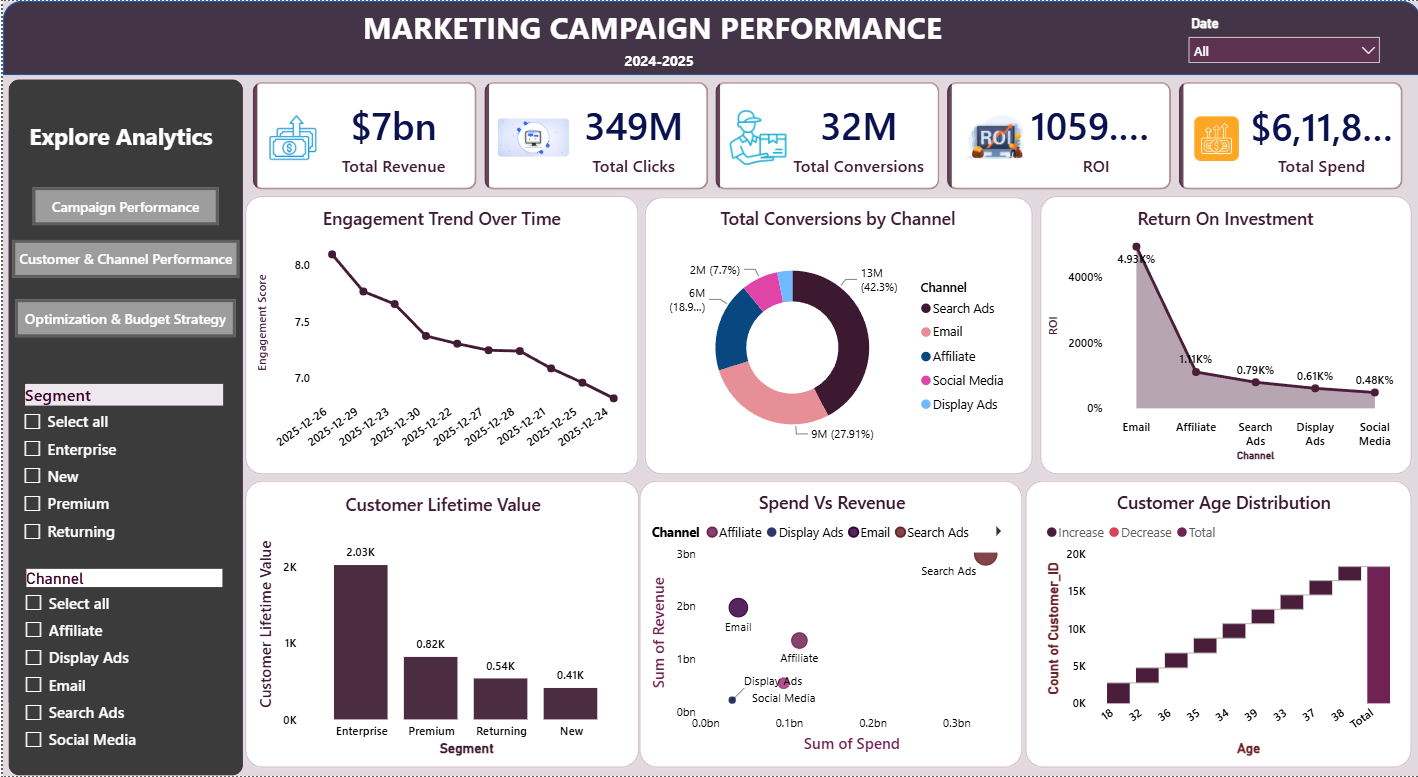

What the dashboard file says about the page in this screenshot:
{"tool":"powerbi","page":{"name":"Campaign Performance","canvas":[1500,820],"ordinal":0},"visuals":[{"type":"shape","box":[5,83.3,248.3,736.7],"z":0},{"type":"shape","box":[665,498.3,423.3,321.7],"z":1000},{"type":"cardVisual","fields":{"Data":["marketing_analytics campaign_performance.Total Revenue","marketing_analytics campaign_performance.Total Clicks","marketing_analytics campaign_performance.Total Conversions","marketing_analytics campaign_performance.ROI","marketing_analytics campaign_performance.Total Spend"]},"box":[247.1,68.6,1252.9,148.6],"z":2000},{"type":"shape","box":[0,0,1500,78.6],"z":3000},{"type":"textbox","box":[320,0,734.3,62.9],"z":4000},{"type":"textbox","box":[624,48,140,35.7],"z":5000},{"type":"shape","box":[247.1,197.1,434.3,312.9],"z":6000},{"type":"shape","box":[670,198.6,428.6,311.4],"z":7000},{"type":"donutChart","title":"Total Conversions by Channel","fields":{"Category":["marketing_analytics campaigns.Channel"],"Y":["marketing_analytics campaign_performance.Total Conversions"]},"box":[694.3,217.1,378.6,274.3],"z":8000},{"type":"shape","box":[1088.6,197.1,411.4,312.9],"z":9000},{"type":"shape","box":[1073.3,498.3,426.7,321.7],"z":10000},{"type":"shape","box":[246.7,498.3,435,321.7],"z":11000},{"type":"slicer","fields":{"Values":["marketing_analytics campaign_performance.Date"]},"box":[1244.3,10,222.9,58.6],"z":12000},{"type":"slicer","fields":{"Values":["marketing_analytics customers.Segment"]},"box":[10,400,235.7,183],"z":13000},{"type":"slicer","fields":{"Values":["marketing_analytics campaigns.Channel"]},"box":[11.7,595,234,208],"z":14000},{"type":"scatterChart","title":"Spend Vs Revenue","fields":{"X":["Sum(marketing_analytics campaign_performance.Spend)"],"Y":["Sum(marketing_analytics campaign_performance.Revenue)"],"Size":["Sum(marketing_analytics campaign_performance.Conversions)"],"Series":["marketing_analytics campaigns.Channel"]},"box":[681.7,516.7,391.7,283.3],"z":15000},{"type":"waterfallChart","title":"Customer Age Distribution","fields":{"Category":["marketing_analytics customers.Age"],"Y":["CountNonNull(marketing_analytics customers.Customer_ID)"]},"box":[1098.3,516.7,386.7,286.7],"z":16000},{"type":"areaChart","title":"Return On Investment","fields":{"Category":["marketing_analytics campaigns.Channel"],"Y":["marketing_analytics campaign_performance.ROI"]},"box":[1101.4,217.1,384.3,274.3],"z":17000},{"type":"lineChart","title":"Engagement Trend Over Time","fields":{"Category":["marketing_analytics campaign_performance.Date"],"Y":["marketing_analytics campaign_performance.Engagement Score"]},"box":[264.3,217.1,400,274.3],"z":18000},{"type":"clusteredColumnChart","title":"Customer Lifetime Value","fields":{"Category":["marketing_analytics customers.Segment"],"Y":["marketing_analytics campaign_performance.Customer Lifetime Value"]},"box":[265,520,400,283.3],"z":19000},{"type":"actionButton","box":[31.7,196.7,196.7,40],"z":20000},{"type":"actionButton","box":[10,253.3,240,40],"z":21000},{"type":"textbox","box":[23.3,121.7,211.7,43.3],"z":22000},{"type":"actionButton","box":[13.3,315,233.3,40],"z":23000}]}

Visuals, with their boxes in screenshot pixels (x1, y1, x2, y2), scaled from the page's 1500x820 canvas onto the 1418x777 screenshot:
shape: bbox=(5, 79, 239, 776)
shape: bbox=(629, 472, 1029, 776)
cardVisual - marketing_analytics campaign_performance.Total Revenue x marketing_analytics campaign_performance.Total Clicks: bbox=(234, 65, 1417, 206)
shape: bbox=(0, 0, 1417, 74)
textbox: bbox=(303, 0, 997, 60)
textbox: bbox=(590, 45, 722, 79)
shape: bbox=(234, 187, 644, 483)
shape: bbox=(633, 188, 1039, 483)
"Total Conversions by Channel" donutChart: bbox=(656, 206, 1014, 466)
shape: bbox=(1029, 187, 1417, 483)
shape: bbox=(1015, 472, 1417, 776)
shape: bbox=(233, 472, 644, 776)
slicer - marketing_analytics campaign_performance.Date: bbox=(1176, 9, 1387, 65)
slicer - marketing_analytics customers.Segment: bbox=(9, 379, 232, 552)
slicer - marketing_analytics campaigns.Channel: bbox=(11, 564, 232, 761)
"Spend Vs Revenue" scatterChart: bbox=(644, 490, 1015, 758)
"Customer Age Distribution" waterfallChart: bbox=(1038, 490, 1404, 761)
"Return On Investment" areaChart: bbox=(1041, 206, 1404, 466)
"Engagement Trend Over Time" lineChart: bbox=(250, 206, 628, 466)
"Customer Lifetime Value" clusteredColumnChart: bbox=(251, 493, 629, 761)
actionButton: bbox=(30, 186, 216, 224)
actionButton: bbox=(9, 240, 236, 278)
textbox: bbox=(22, 115, 222, 156)
actionButton: bbox=(13, 298, 233, 336)
